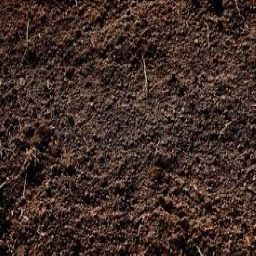dirt: (2, 3, 252, 251)
